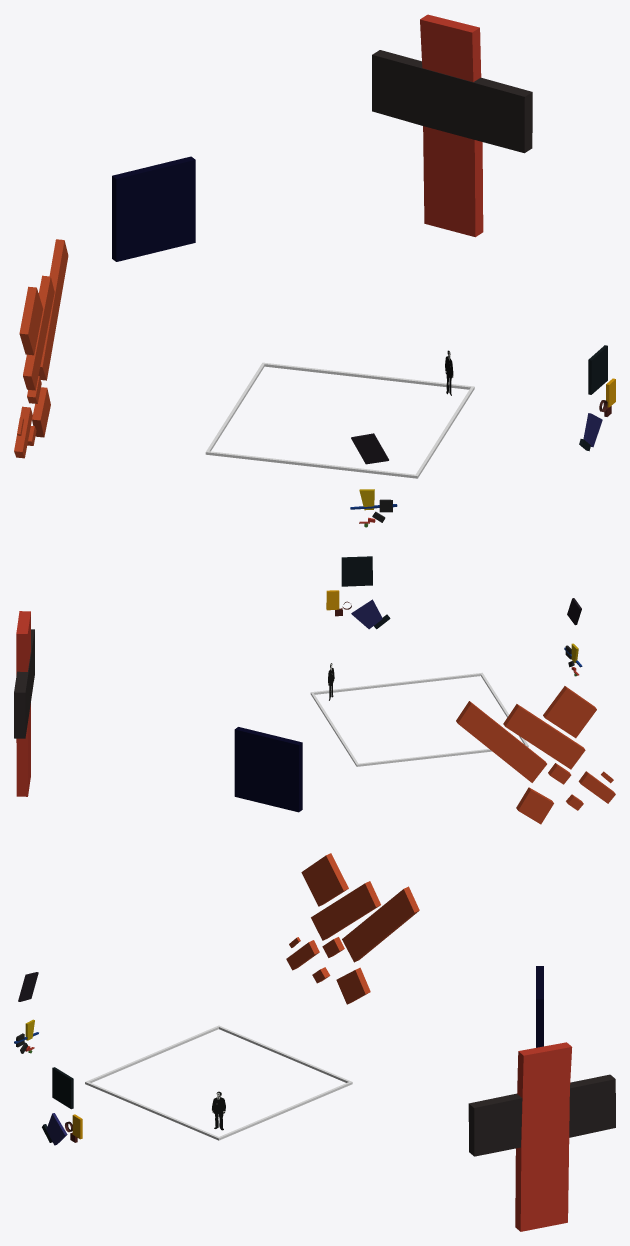
File: MScen1.glb
The picture shows the model from 3 angles, top to bottom: view 1: azimuth 30°, elevation 25°; view 2: azimuth 150°, elevation 25°; view 3: azimuth 270°, elevation 25°; orthographic projection. The views are drawn at different scales.
Visible parts, largest first — view 1: Cube001.002, Cube.002, Mesh_0, Cube007, Plane.001, Cube, Cube.001; view 2: Cube007, Mesh_0, Cube.002, Plane.001, Cube001.002, Cube, Cube001; view 3: Cube.002, Cube007, Cube001.002, Plane.001, Cube, Mesh_0.
Part boxes in pixels (x1,y1,x2,y2): Cube001.002: (372, 50, 532, 153); Cube.002: (420, 14, 483, 237); Mesh_0: (112, 156, 195, 261); Cube007: (14, 239, 68, 458); Plane.001: (205, 362, 474, 478); Cube: (588, 345, 607, 394); Cube.001: (351, 433, 388, 464); Cube007: (456, 686, 615, 824); Mesh_0: (234, 727, 302, 812); Cube.002: (16, 611, 30, 796); Plane.001: (310, 672, 528, 766); Cube001.002: (14, 629, 34, 738); Cube: (341, 556, 372, 586); Cube001: (351, 599, 382, 629); Cube.002: (515, 1042, 572, 1231); Cube007: (286, 853, 419, 1004); Cube001.002: (468, 1074, 615, 1156); Plane.001: (85, 1025, 352, 1140); Cube: (52, 1067, 73, 1109); Mesh_0: (536, 966, 543, 1047).
Bounding box in the file's own units: 31.51 × 9.86 × 30.5.
